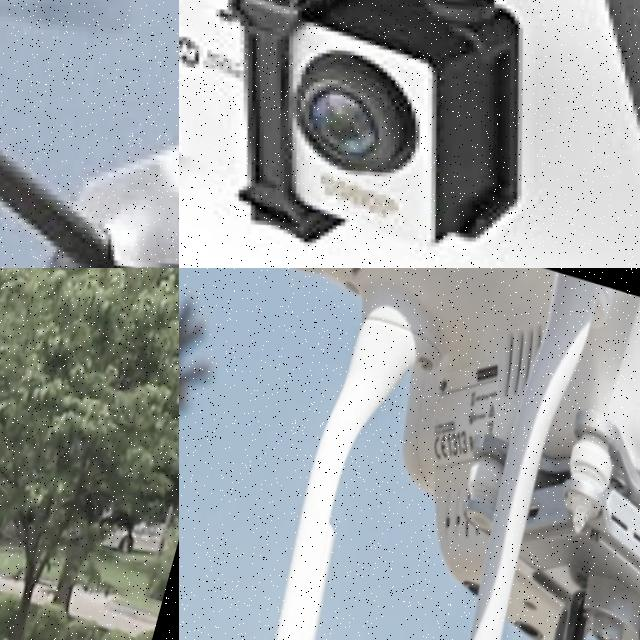drone: (179, 268, 640, 640), (179, 0, 640, 268), (0, 0, 179, 268)
